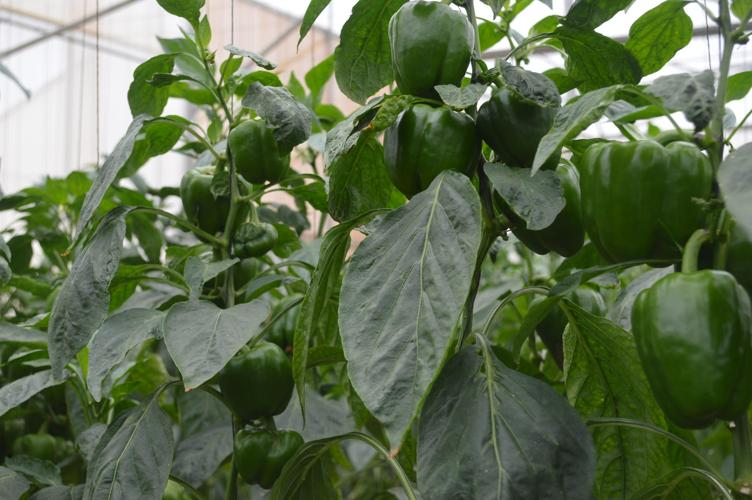BellPepper: (625, 270, 745, 429), (573, 138, 713, 267), (488, 166, 583, 260), (381, 105, 479, 190), (386, 8, 470, 95), (476, 83, 560, 170), (210, 347, 295, 418), (227, 117, 289, 185), (182, 168, 250, 228), (227, 429, 300, 483)
